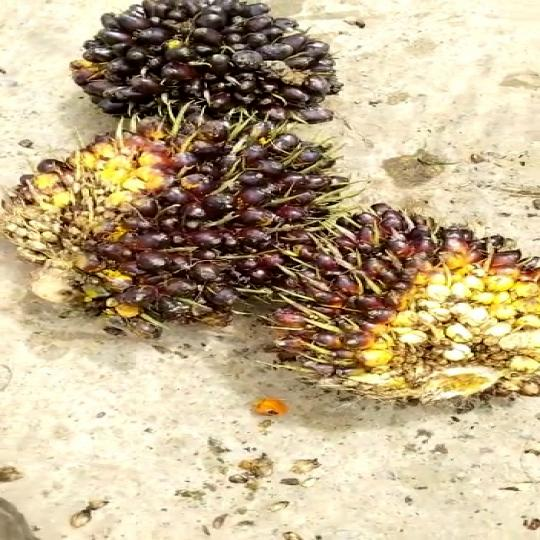mentah: (13, 112, 338, 344), (262, 195, 540, 407), (74, 0, 365, 123)
